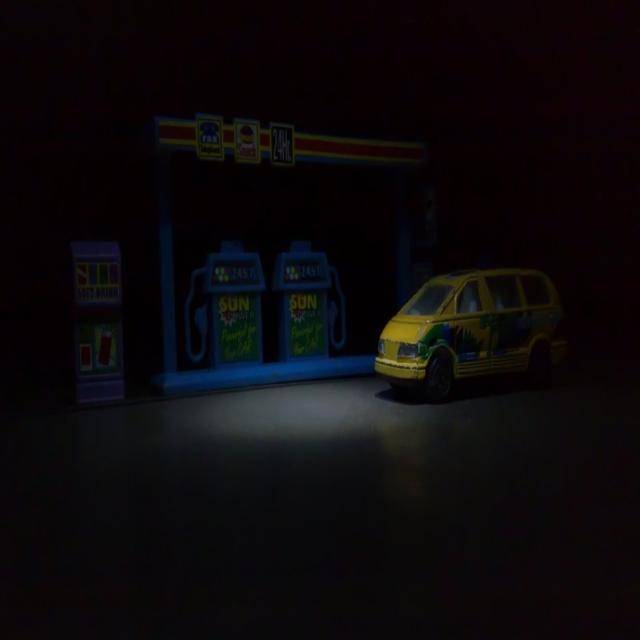Car: (373, 269, 570, 400)
